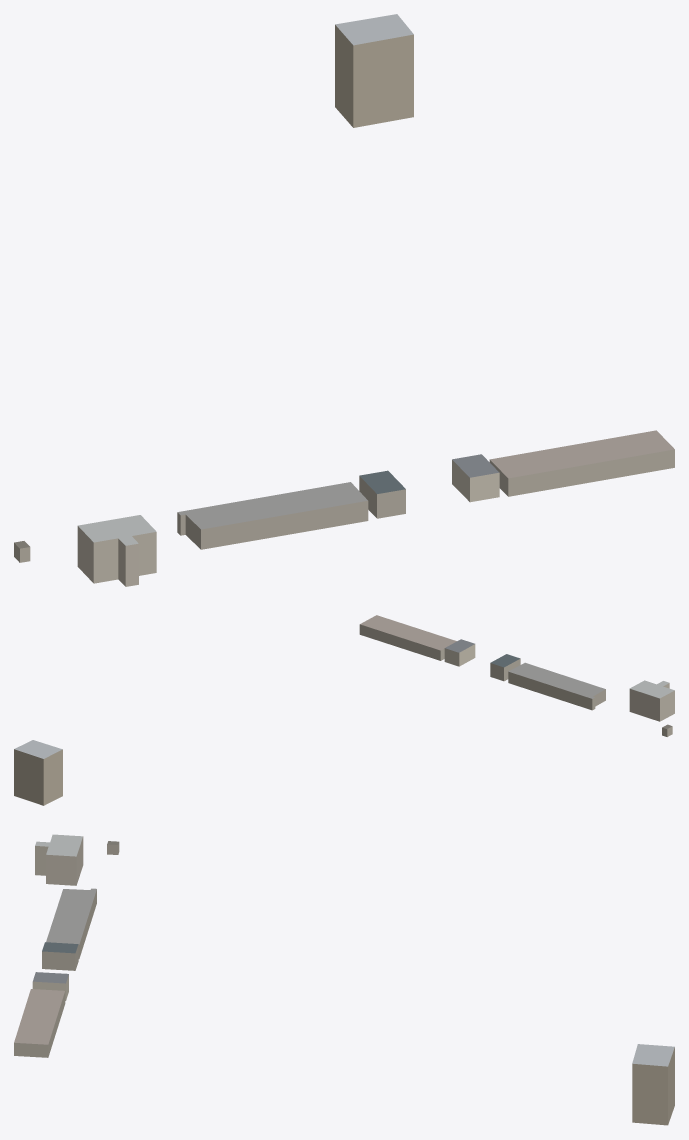
3 renders of one model, top to bottom at view 1: azimuth 30°, elevation 25°; view 2: azimuth 150°, elevation 25°; view 3: azimuth 270°, elevation 25°, orthographic. The views are drawn at different scales.
Parts seen in each view (by area): view 1: tuile; view 2: tuile; view 3: tuile.
Part boxes in pixels (x1,y1,x2,y2): tuile: [14, 14, 674, 586]; tuile: [14, 615, 674, 805]; tuile: [14, 834, 674, 1125].
Bounding box in the file's own units: 247 × 25.34 × 258.
